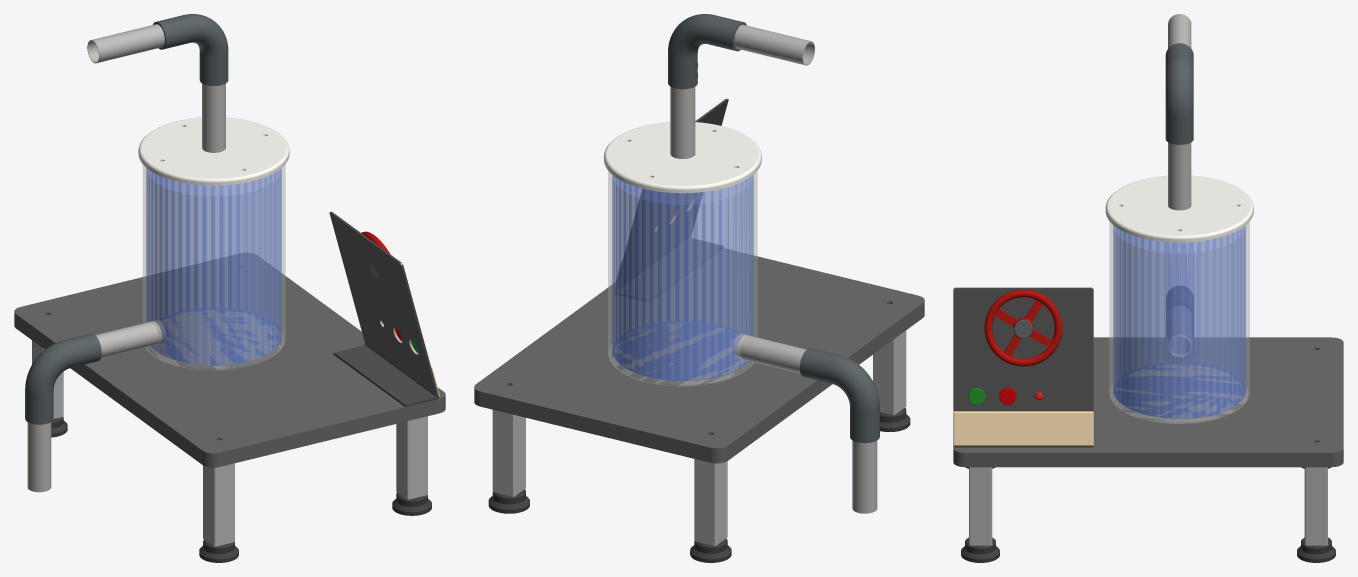
File: ESTACAO_NIVEL.glb
3 views of the same model, side by side, from view 1: azimuth 30°, elevation 25°; view 2: azimuth 150°, elevation 25°; view 3: azimuth 270°, elevation 25° (orthographic). The views are drawn at different scales.
Visible parts, largest first — view 1: Solid1 (×16); view 2: Solid1 (×17); view 3: Solid1 (×16).
Boxes of the visible parts, x1=… form: Solid1 (×16): x1=14, y1=14, x2=445, y2=562; Solid1 (×17): x1=474, y1=14, x2=924, y2=562; Solid1 (×16): x1=953, y1=14, x2=1343, y2=562.
Bounding box in the file's own units: 0.446 × 0.62 × 0.5.
